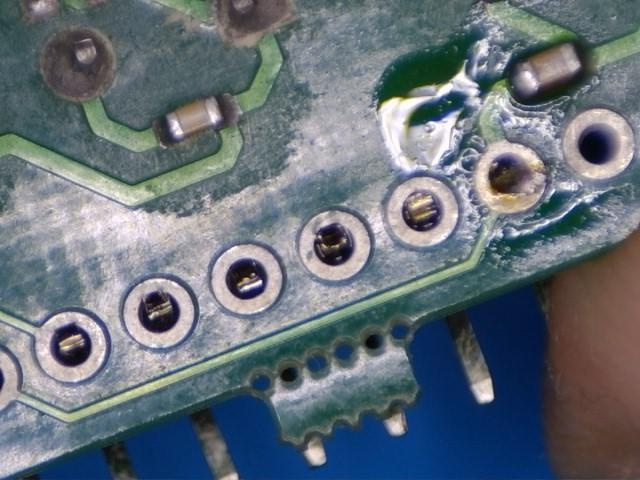pcb_defect: (477, 144, 546, 214)
